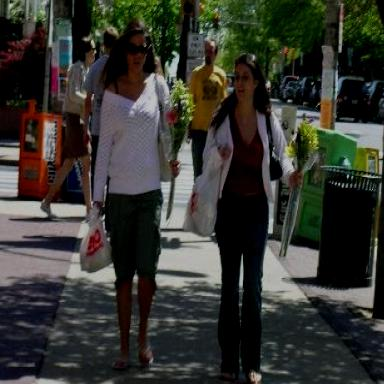ped: (83, 26, 195, 371), (189, 54, 304, 384), (45, 37, 99, 220)
